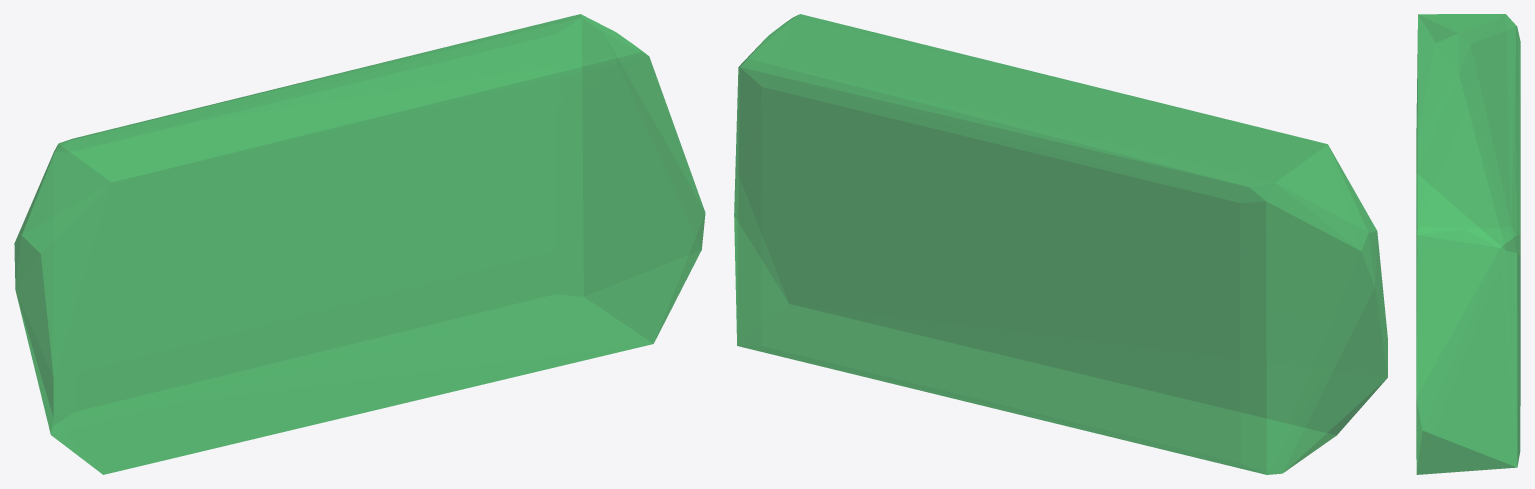
3 renders of one model, left to right at view 1: azimuth 30°, elevation 25°; view 2: azimuth 150°, elevation 25°; view 3: azimuth 270°, elevation 25°, orthographic. The views are drawn at different scales.
Parts seen in each view (by area): view 1: Shape_IndexedFaceSet.001_Shape_IndexedFaceSet.8973; view 2: Shape_IndexedFaceSet.001_Shape_IndexedFaceSet.8973; view 3: Shape_IndexedFaceSet.001_Shape_IndexedFaceSet.8973.
Part boxes in pixels (<box>): Shape_IndexedFaceSet.001_Shape_IndexedFaceSet.8973: <box>14,14,705,474</box>; Shape_IndexedFaceSet.001_Shape_IndexedFaceSet.8973: <box>734,14,1387,474</box>; Shape_IndexedFaceSet.001_Shape_IndexedFaceSet.8973: <box>1416,14,1520,474</box>.
Size of the model in its own units: 0.6535 by 0.2763 by 0.1074.
